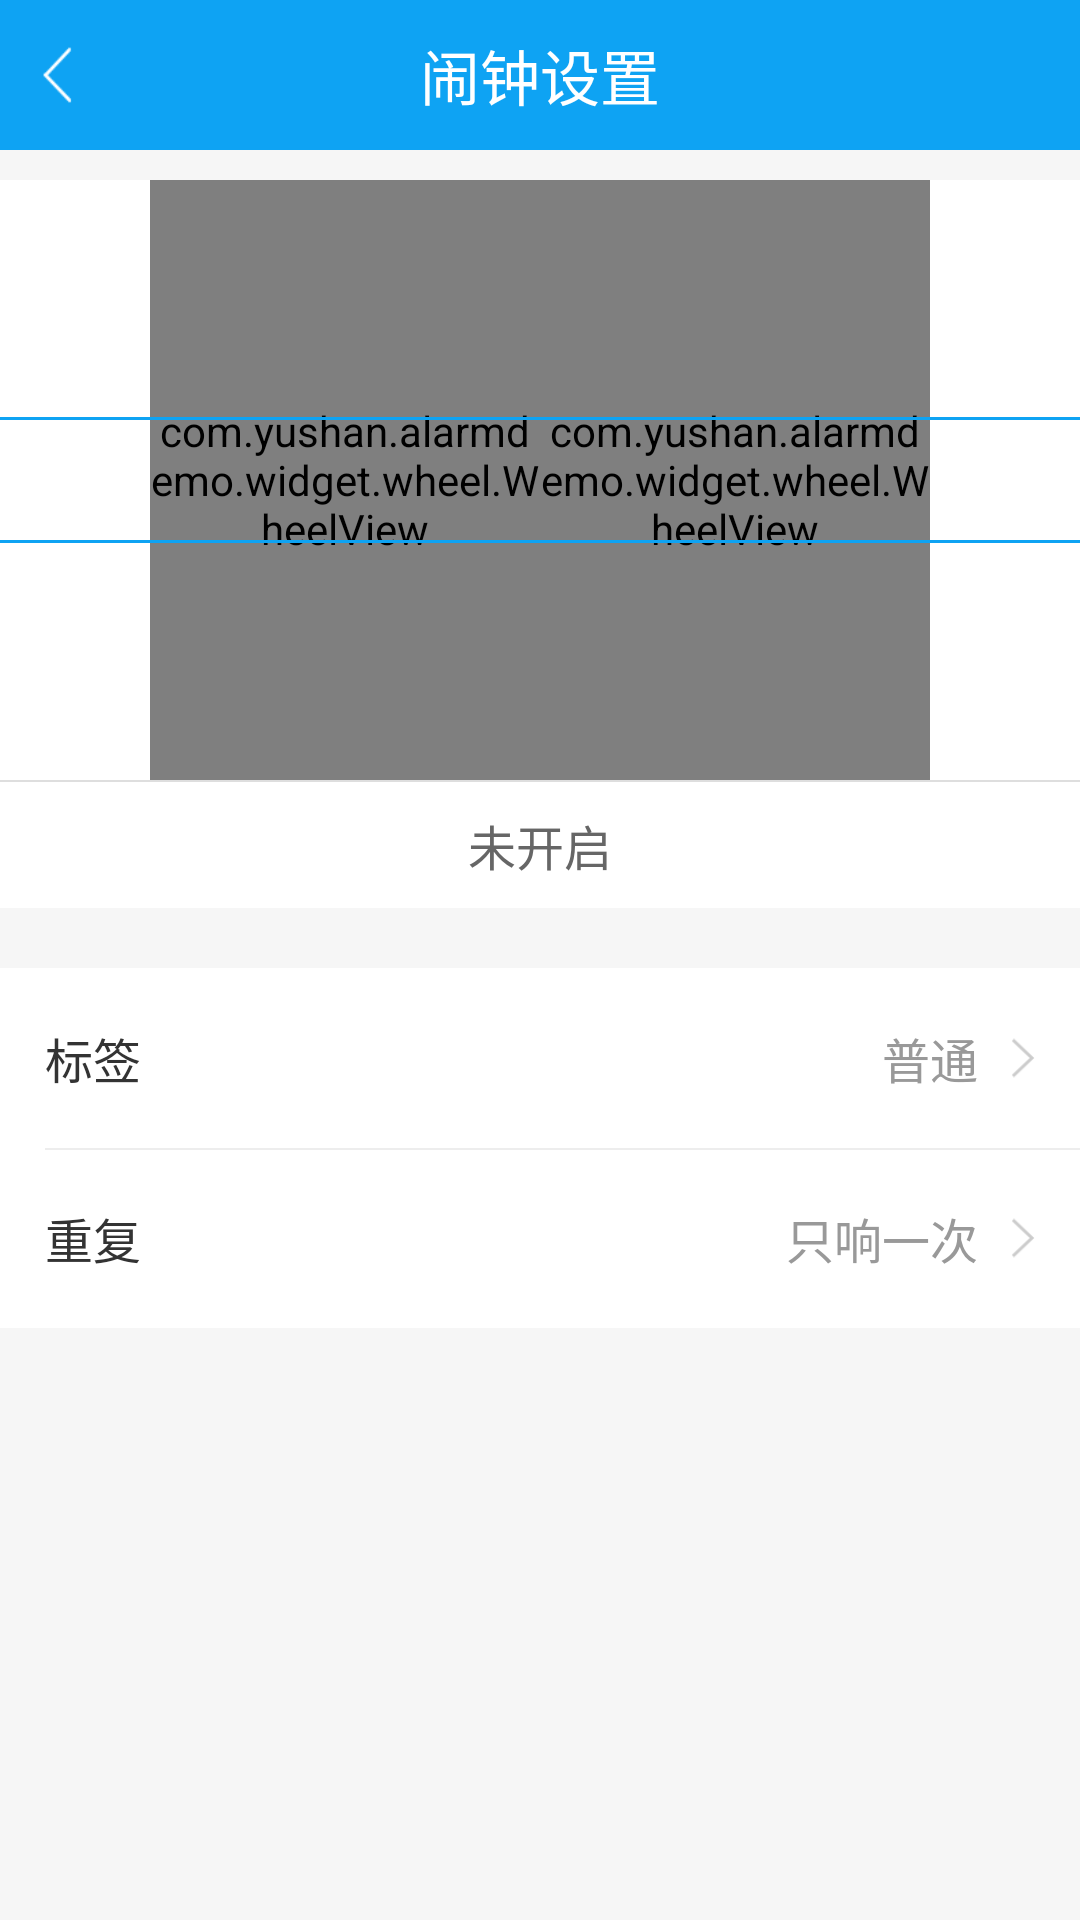

Locate icon controls on the screen. Image size 1080x1920, boxes as [x1,y1,x2,y2].
topbar return: [43,47,71,103]
